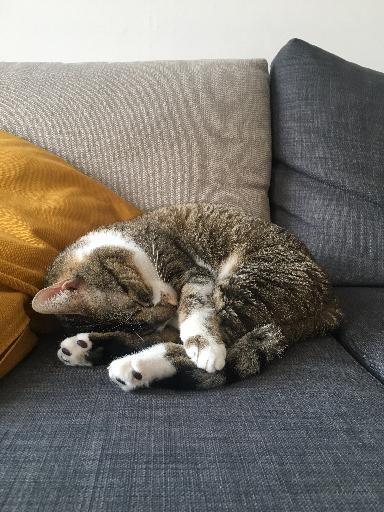cat_sleeping: (32, 203, 342, 391)
